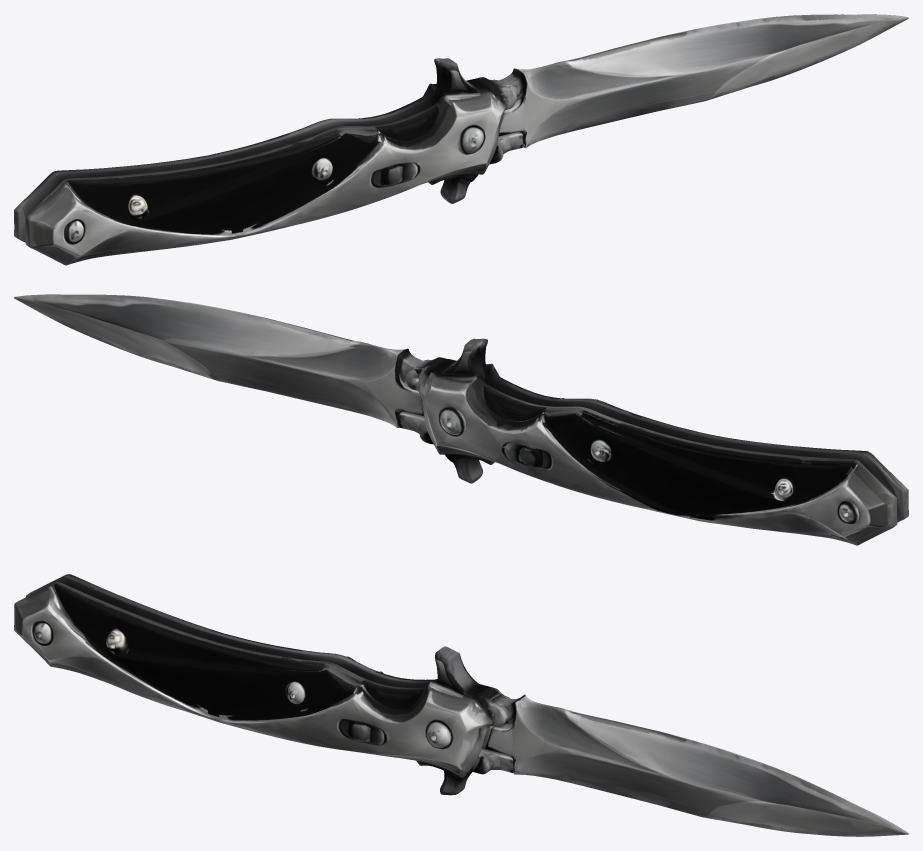
The model's file is knife_gladius.glb.
The picture shows the model from 3 angles, top to bottom: view 1: azimuth 30°, elevation 25°; view 2: azimuth 150°, elevation 25°; view 3: azimuth 330°, elevation 25°; orthographic projection.
Visible parts, largest first — view 1: knife_mesh; view 2: knife_mesh; view 3: knife_mesh.
Boxes of the visible parts, x1,y1,x2,y2 form: knife_mesh: [14, 14, 908, 265]; knife_mesh: [14, 294, 908, 545]; knife_mesh: [14, 574, 908, 836].
Size of the model in its own units: 1.2 by 0.1822 by 0.0935.
1 material, 1 textured.
